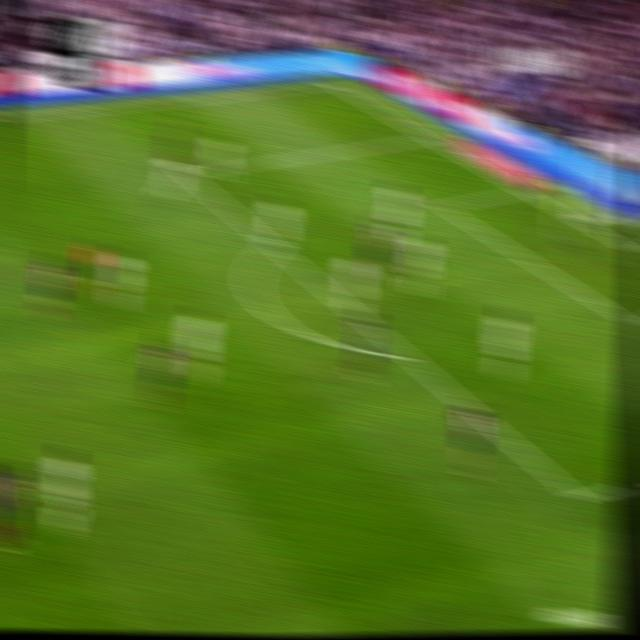bigarea_bottom_inner: (564, 479, 591, 514)
bigarea_top_outter: (417, 127, 436, 143)
bottom_arc_area_intersection: (394, 341, 419, 368)
corner: (318, 74, 344, 92)
smallarea_top_inner: (433, 196, 452, 215)
top_arc_area_intersection: (262, 236, 286, 254)
